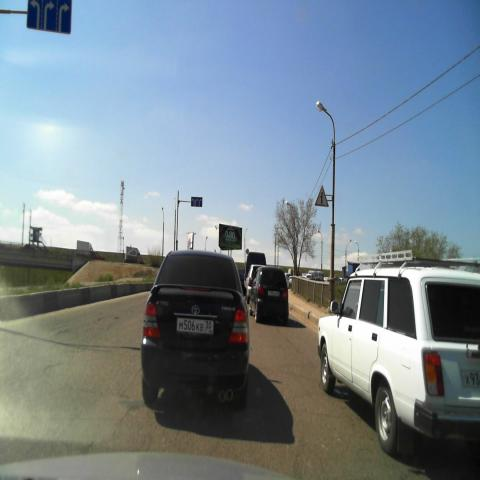2_3_3: (314, 184, 328, 207)
5_15_1: (190, 196, 202, 207)
